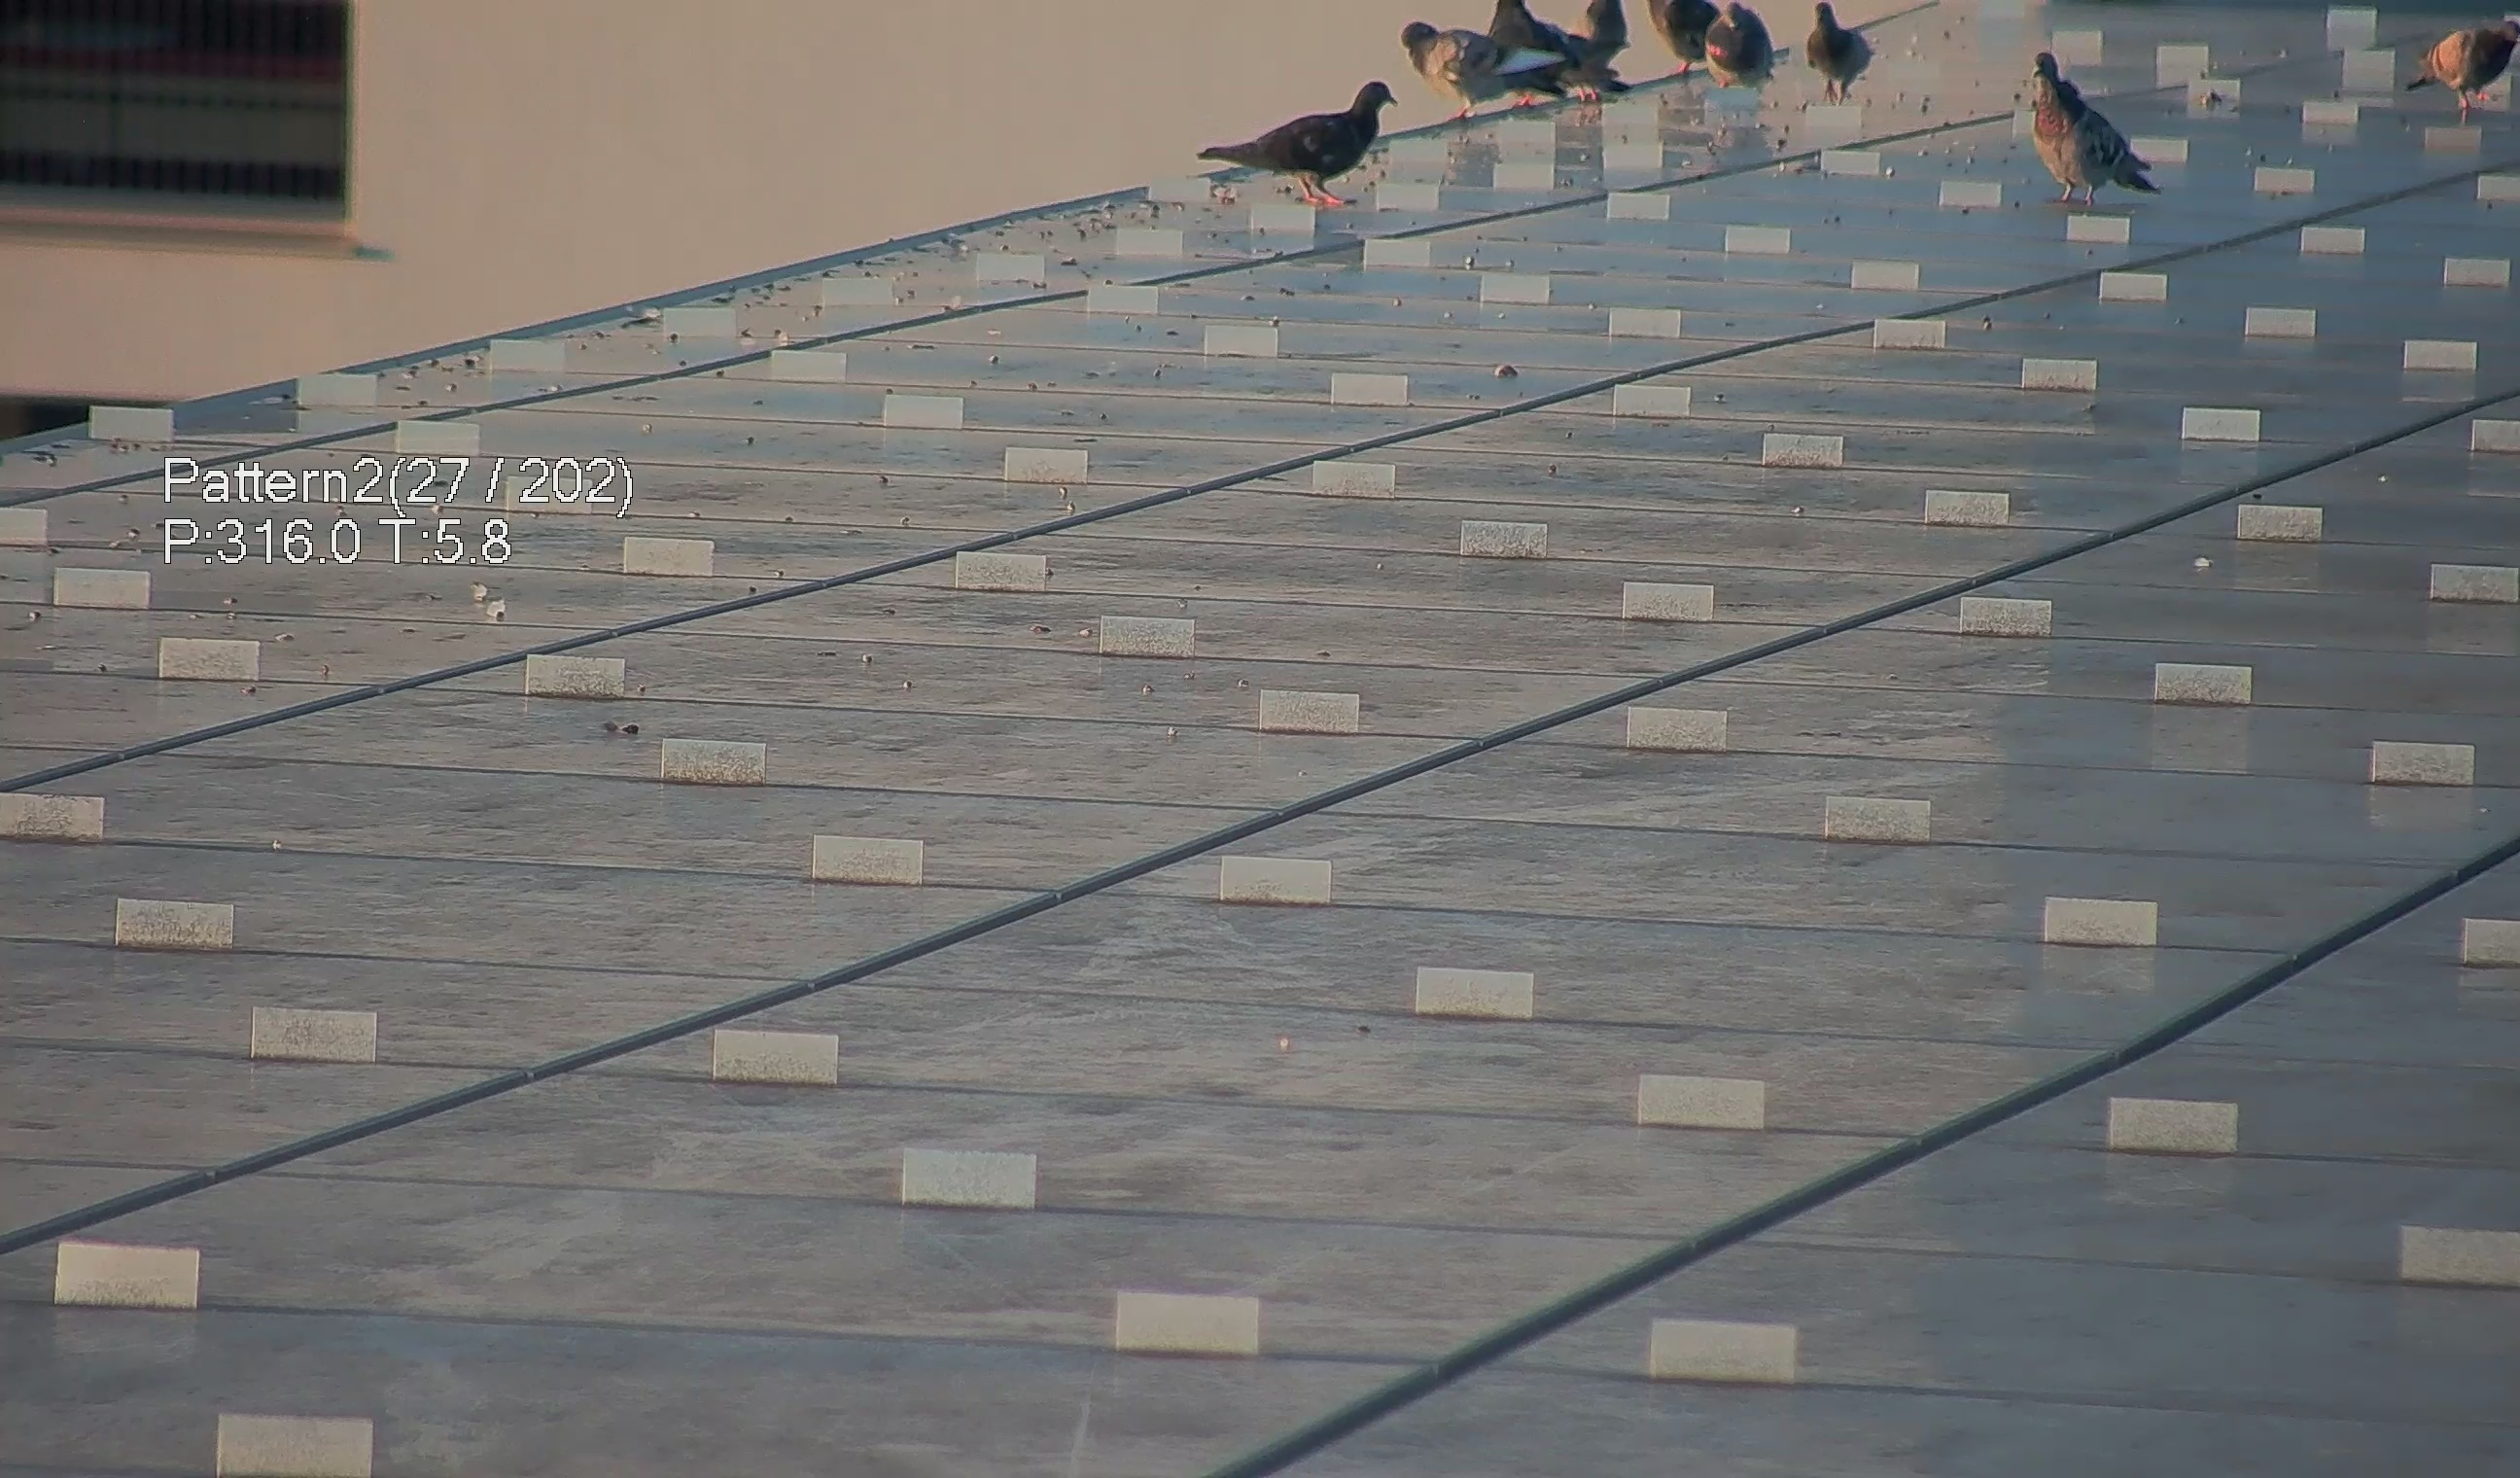Pigeon: (1208, 62, 1405, 199), (2021, 39, 2174, 211), (1398, 19, 1574, 127), (1507, 2, 1644, 97), (2404, 7, 2520, 118), (1803, 2, 1882, 114), (1695, 2, 1778, 100), (1648, 2, 1718, 90)
